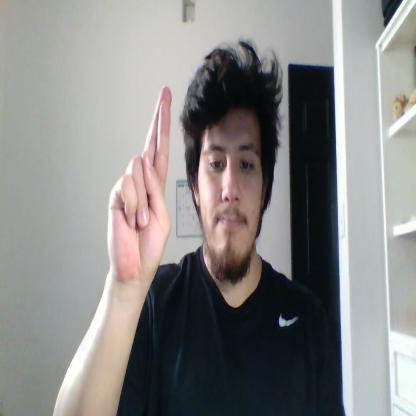R: (107, 84, 172, 280)
